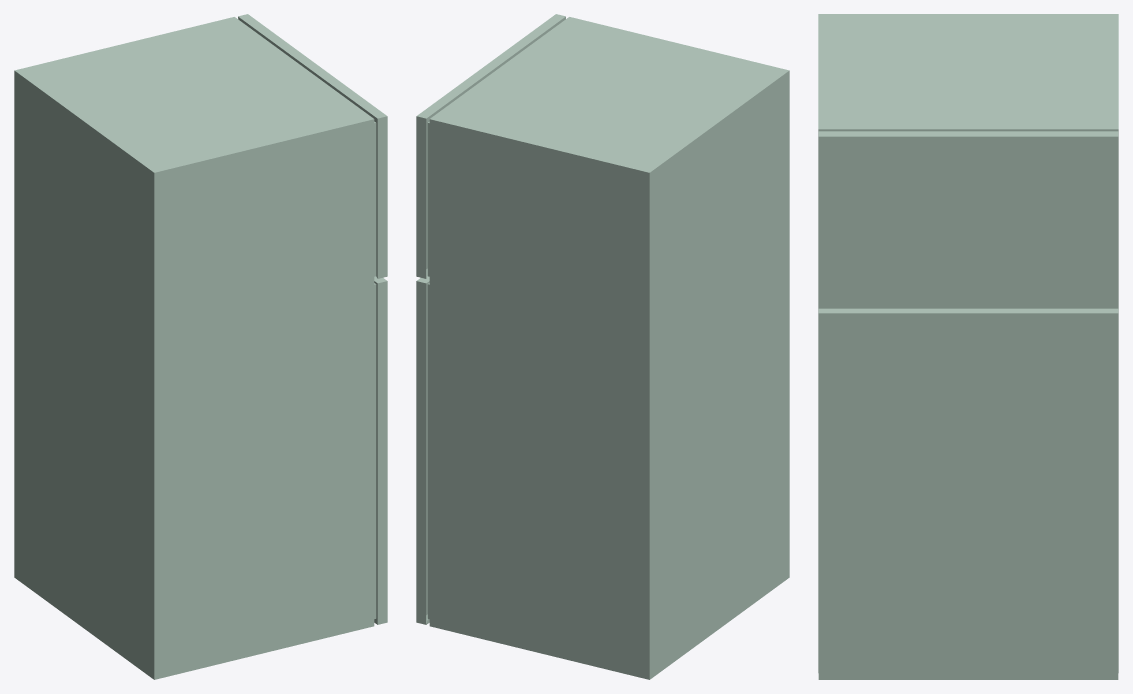
File: fridge.glb
The picture shows the model from 3 angles, left to right: view 1: azimuth 30°, elevation 25°; view 2: azimuth 150°, elevation 25°; view 3: azimuth 270°, elevation 25°; orthographic projection. The views are drawn at different scales.
Parts seen in each view (by area): view 1: Refridgerator; view 2: Refridgerator; view 3: Refridgerator.
Boxes of the visible parts, x1,y1,x2,y2 form: Refridgerator: (14, 14, 387, 679); Refridgerator: (416, 14, 789, 679); Refridgerator: (818, 14, 1118, 679).
Bounding box in the file's own units: 1.93 × 4 × 2.
